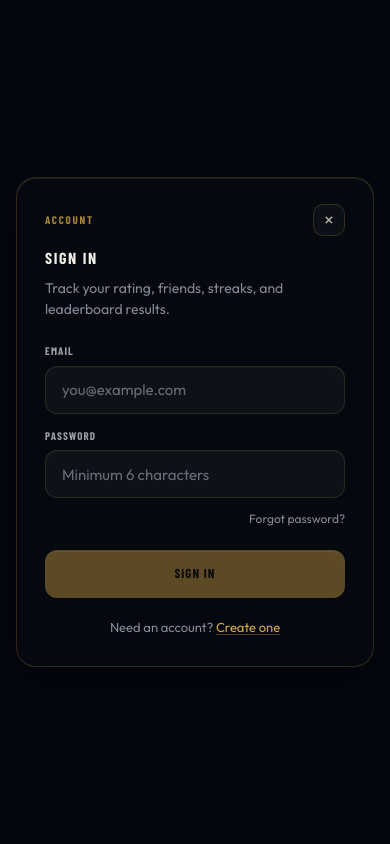
Test: AuthModal — password reset states › shows the neutral sent message (with the finish-on-the-web hint from useAuth)
This screenshot has width=390, height=844.
Type "who@example.com" into the field with placeholder "you@example.com" at (195, 390), box [45,366,345,414]
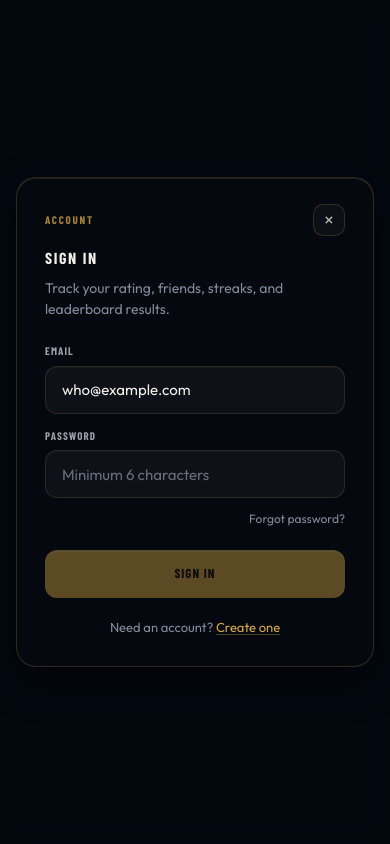
Click the button "Forgot password?" at (297, 519), box [249,508,345,530]
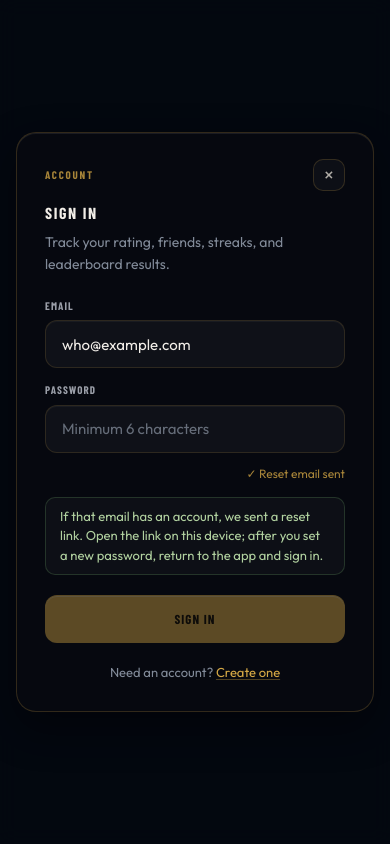
Expected: the button "✓ Reset email sent" is shown, [246,463,345,485]
